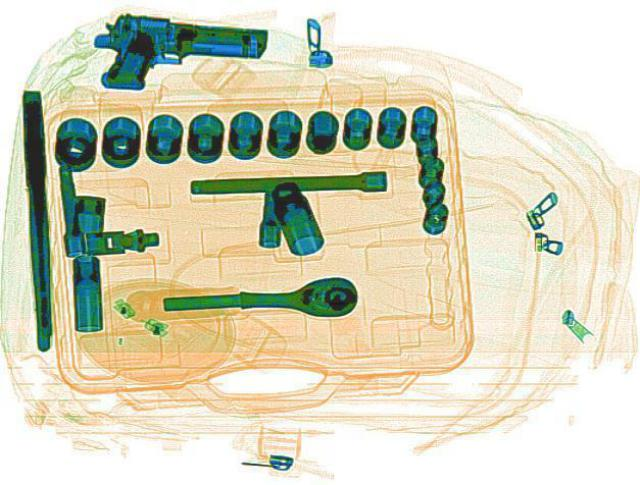Gun: (85, 8, 268, 97)
